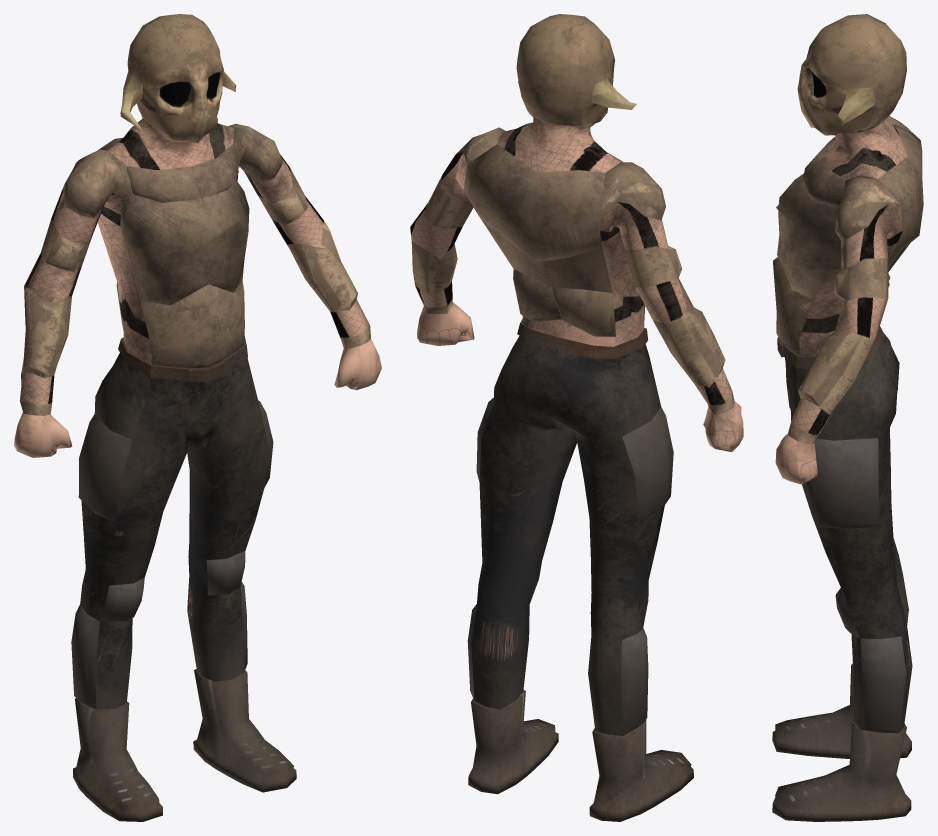
The model's file is Anim_idle_npc1.0037.obj.
The picture shows the model from 3 angles, left to right: view 1: azimuth 30°, elevation 25°; view 2: azimuth 150°, elevation 25°; view 3: azimuth 270°, elevation 25°; orthographic projection.
Parts seen in each view (by area): view 1: NPC2; view 2: NPC2; view 3: NPC2.
Part boxes in pixels (left/top/right/bottom): NPC2: left=14, top=14, right=381, bottom=821; NPC2: left=410, top=14, right=743, bottom=821; NPC2: left=772, top=14, right=923, bottom=821.
Size of the model in its own units: 4.53 by 9.67 by 1.74.
